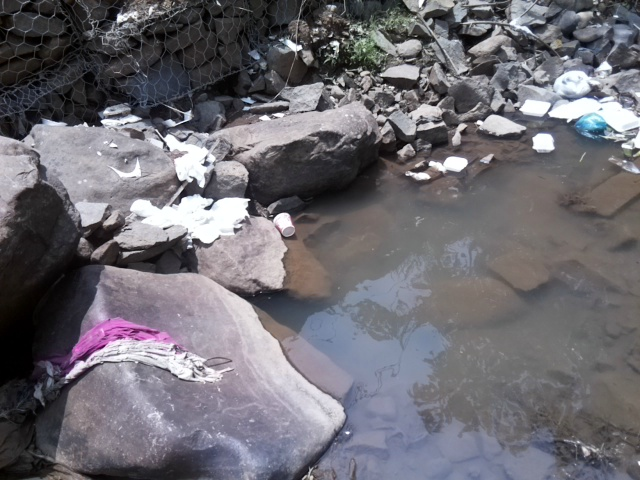Sampah_Plastik: (133, 195, 256, 238), (170, 133, 215, 183), (553, 70, 592, 98), (573, 113, 610, 141)
Sampah_Styrofoam: (602, 96, 638, 133), (554, 99, 603, 120), (518, 95, 552, 118), (529, 133, 561, 155), (445, 154, 469, 175)
